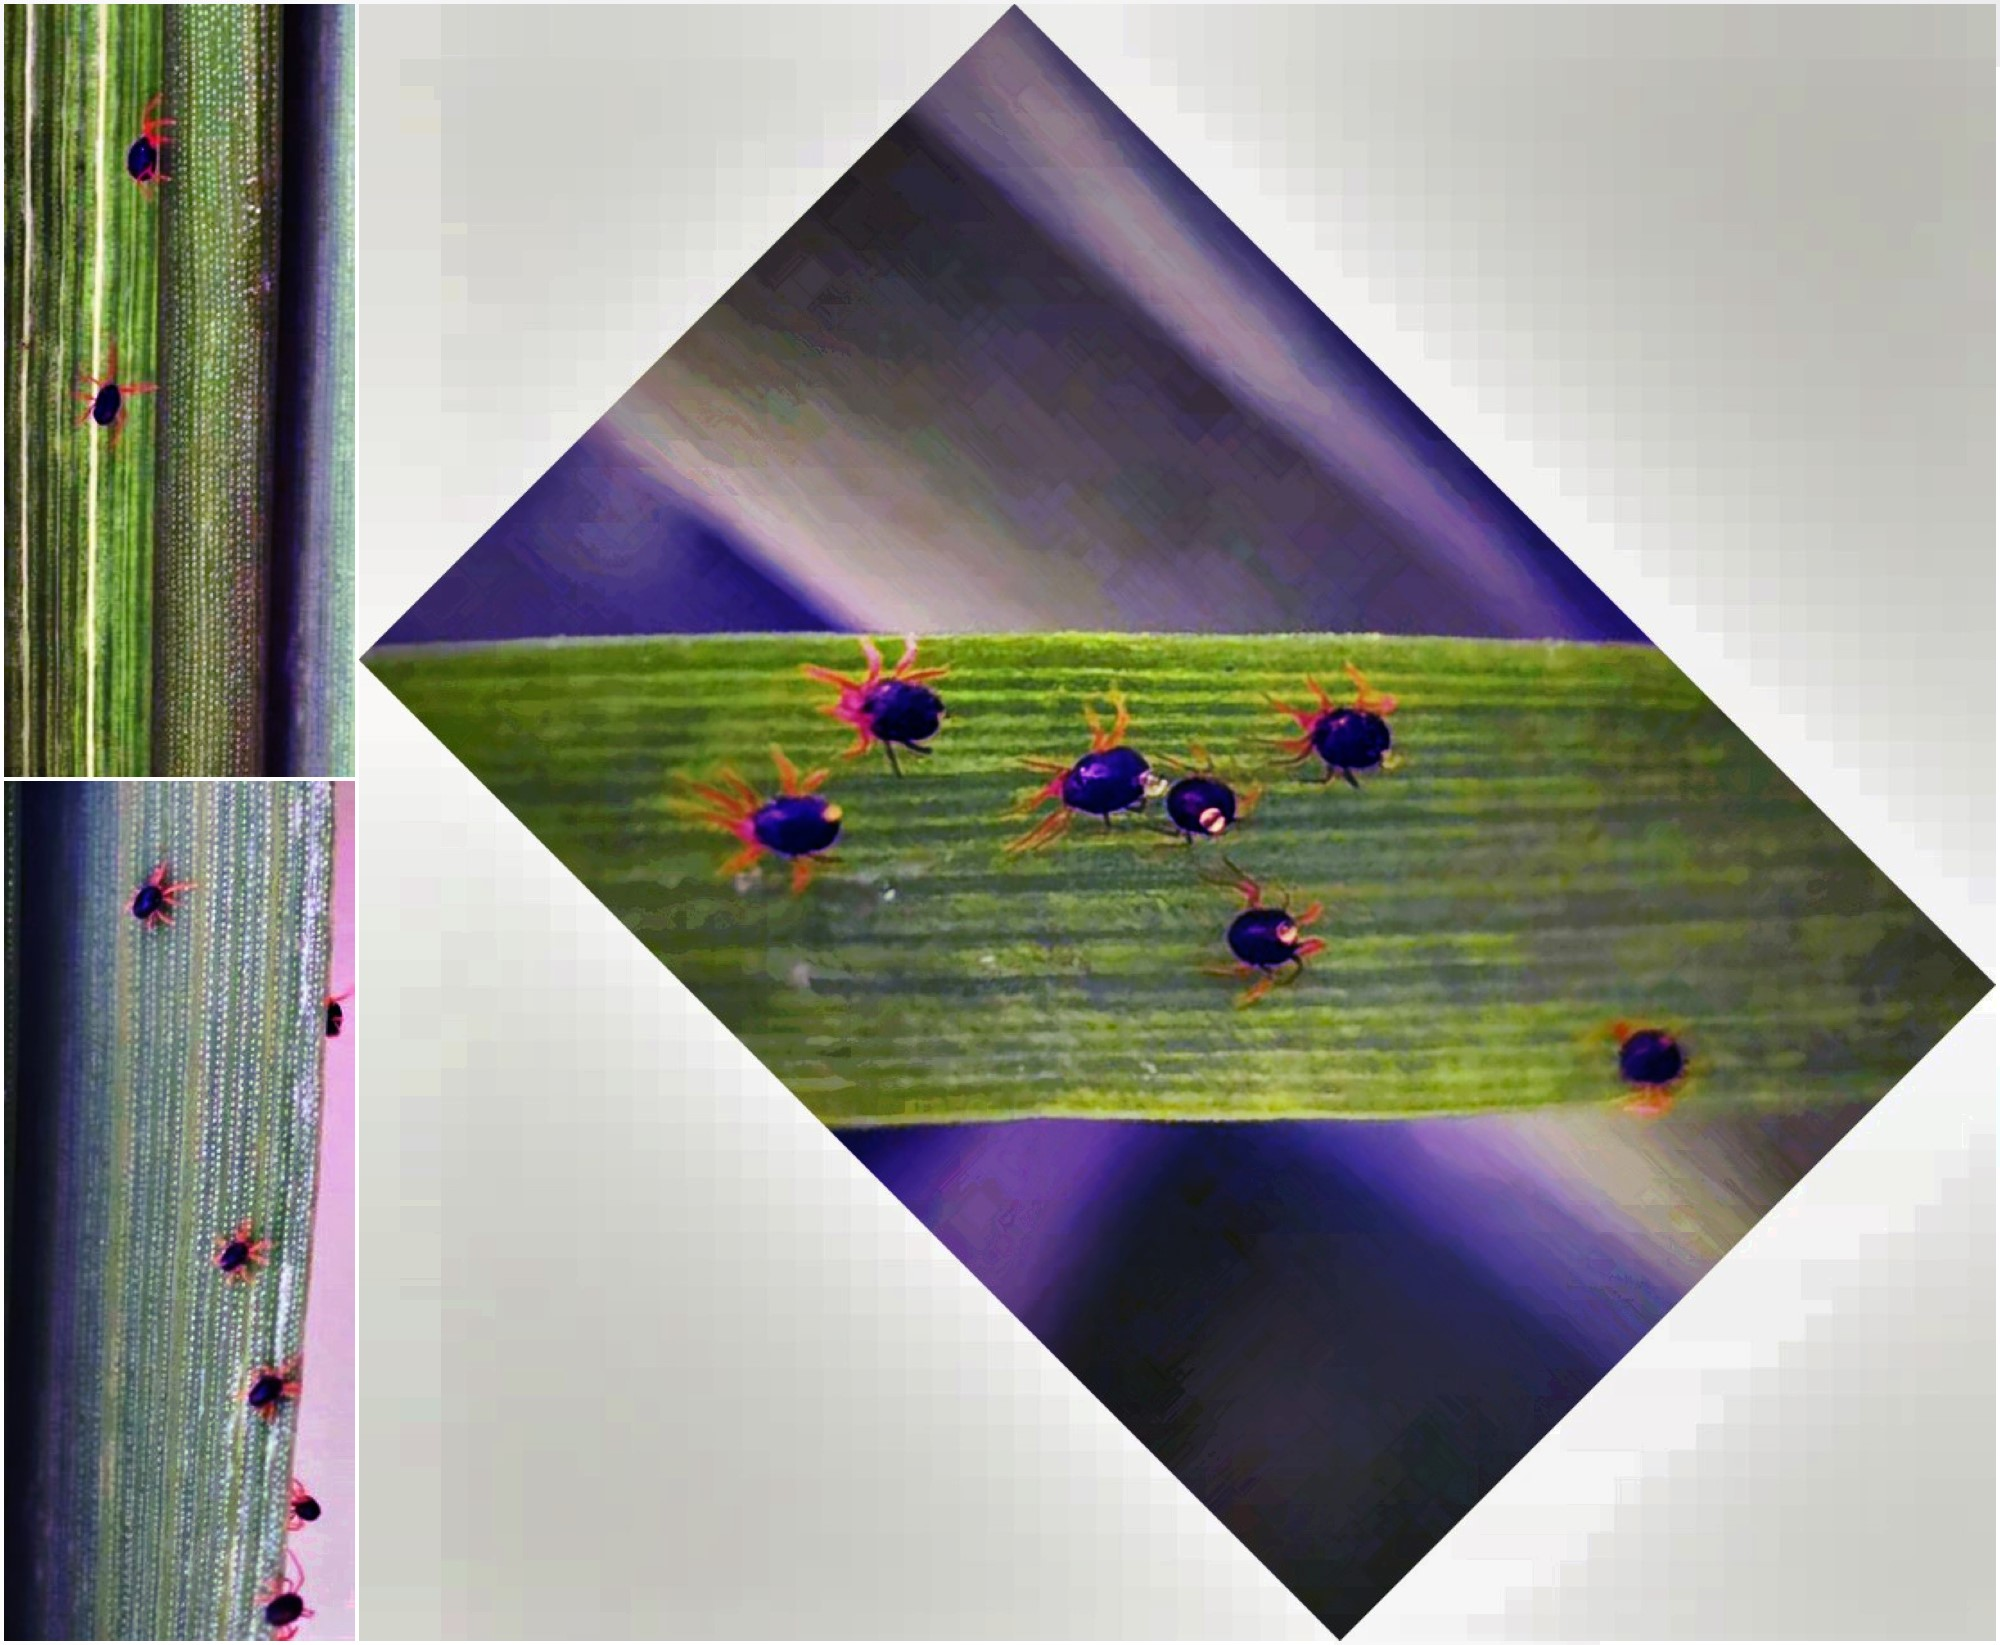Wheat Red Spider: (663, 630, 978, 912), (100, 95, 194, 211)
